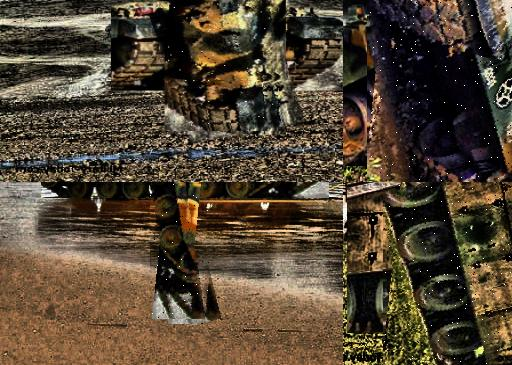tanks: (373, 1, 512, 183), (385, 183, 512, 365), (167, 1, 277, 132), (152, 183, 209, 320)
